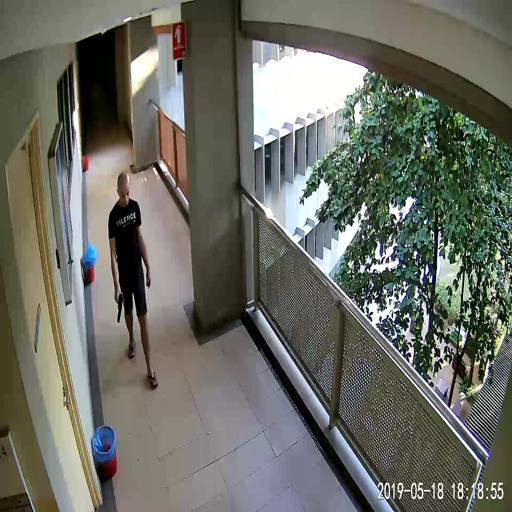pistol: (114, 290, 123, 324)
